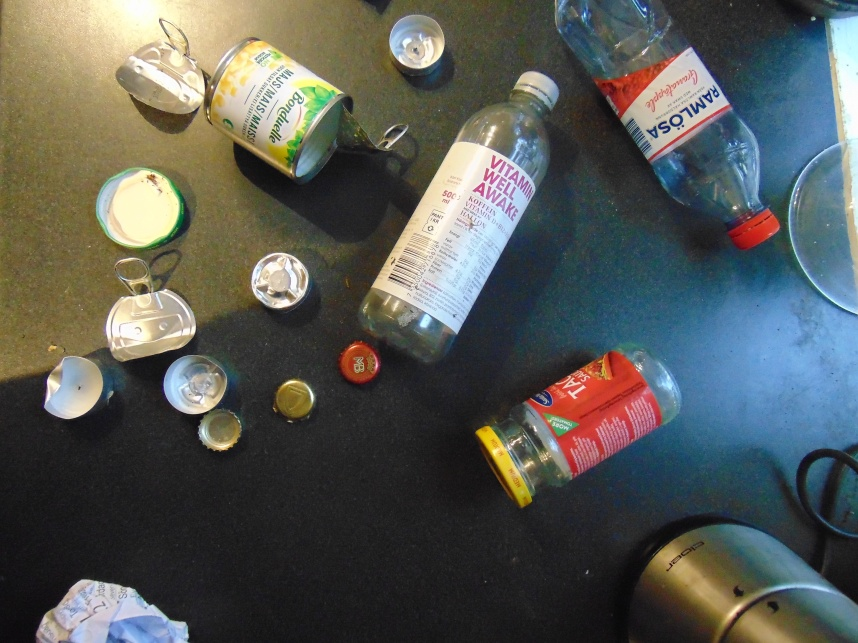glass_bottle: (477, 341, 683, 507)
metal: (115, 16, 210, 119), (106, 257, 196, 362), (96, 164, 186, 249), (42, 353, 114, 418), (162, 351, 234, 414), (339, 97, 407, 159), (388, 14, 448, 77), (250, 251, 312, 310), (271, 375, 318, 422), (196, 409, 244, 451), (339, 339, 379, 382)
metal_can: (634, 520, 858, 643), (204, 36, 355, 184)
plastic_bottle: (358, 73, 559, 366), (554, 1, 781, 252), (788, 139, 858, 319)
